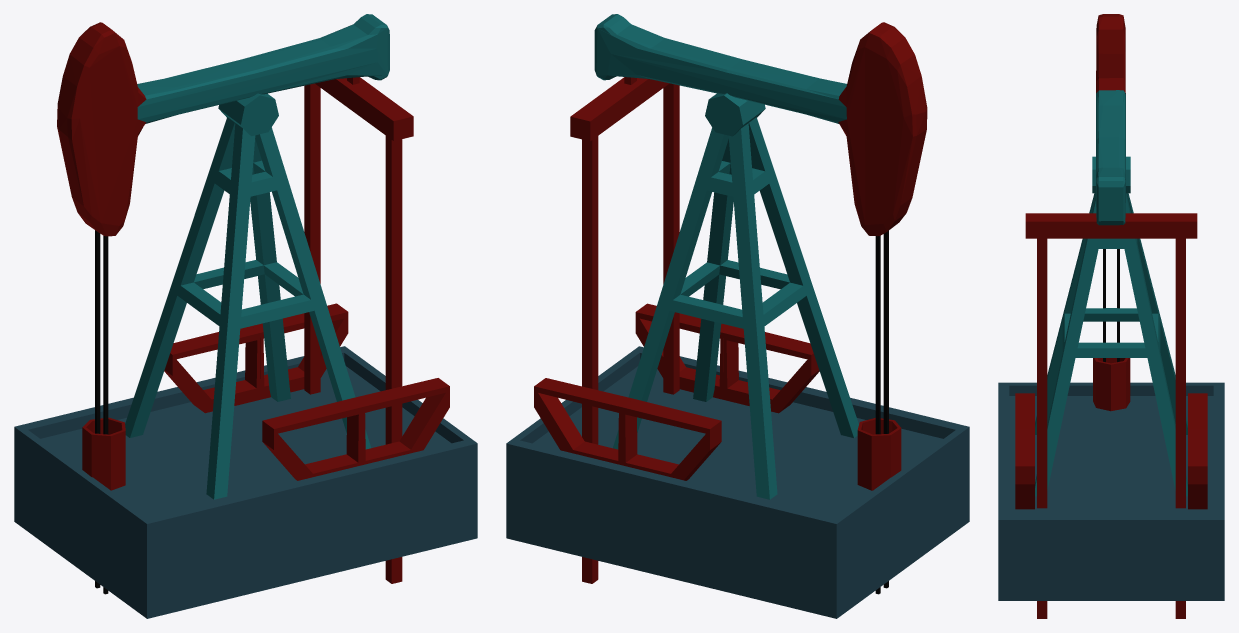
The model's file is towerFarm1lvl.fbx.
The picture shows the model from 3 angles, left to right: view 1: azimuth 30°, elevation 25°; view 2: azimuth 150°, elevation 25°; view 3: azimuth 270°, elevation 25°; orthographic projection. The views are drawn at different scales.
Visible parts, largest first — view 1: Cube.003, Cube, Plane.001, Cube.004, Cube.001, Cylinder.001, Cube.002, Cylinder; view 2: Cube.003, Cube, Plane.001, Cube.004, Cube.001, Cylinder.001, Cube.002, Cylinder; view 3: Cube.003, Cube, Cube.001, Plane.001, Cube.004, Cylinder.001, Cube.002, Cylinder.
Boxes of the visible parts, <box> form: Cube.003: <box>14,346,477,618</box>; Cube: <box>125,117,370,499</box>; Plane.001: <box>57,14,389,236</box>; Cube.004: <box>164,303,449,480</box>; Cube.001: <box>304,77,413,583</box>; Cylinder.001: <box>82,417,125,490</box>; Cube.002: <box>95,230,108,594</box>; Cylinder: <box>218,93,278,136</box>; Cube.003: <box>506,346,969,618</box>; Cube: <box>613,117,858,499</box>; Plane.001: <box>594,14,927,236</box>; Cube.004: <box>534,303,819,480</box>; Cube.001: <box>570,77,679,583</box>; Cylinder.001: <box>857,418,901,490</box>; Cube.002: <box>875,231,888,594</box>; Cylinder: <box>705,93,765,136</box>; Cube.003: <box>998,382,1224,600</box>; Cube: <box>1035,193,1187,496</box>; Cube.001: <box>1025,213,1197,618</box>; Plane.001: <box>1096,14,1125,225</box>; Cube.004: <box>1015,393,1207,509</box>; Cylinder.001: <box>1093,358,1130,411</box>; Cube.002: <box>1103,249,1119,362</box>; Cylinder: <box>1092,156,1130,193</box>.
Bounding box in the file's own units: 206 × 329 × 136.
